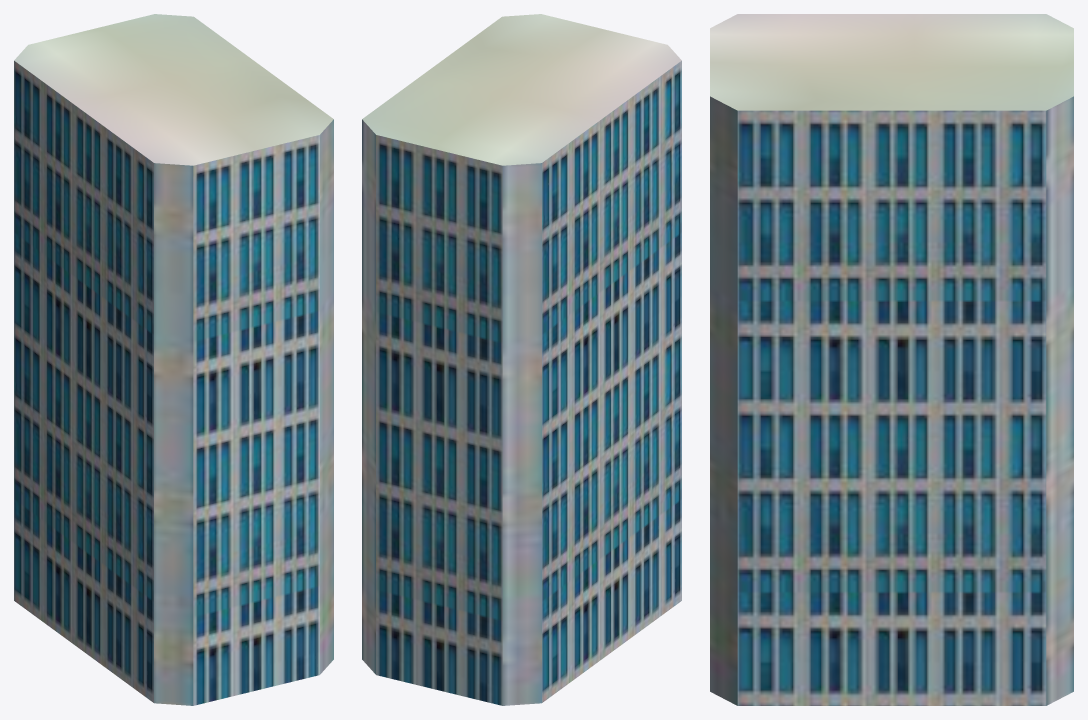
File: building5.fbx
3 renders of one model, left to right at view 1: azimuth 30°, elevation 25°; view 2: azimuth 150°, elevation 25°; view 3: azimuth 270°, elevation 25°, orthographic. The views are drawn at different scales.
Parts seen in each view (by area): view 1: Cube.011; view 2: Cube.011; view 3: Cube.011.
Part boxes in pixels (x1=…): Cube.011: x1=14, y1=14, x2=333, y2=705; Cube.011: x1=362, y1=14, x2=681, y2=705; Cube.011: x1=710, y1=14, x2=1073, y2=705.
Bounding box in the file's own units: 1372 × 3940 × 2182.
1 material, 1 textured.
